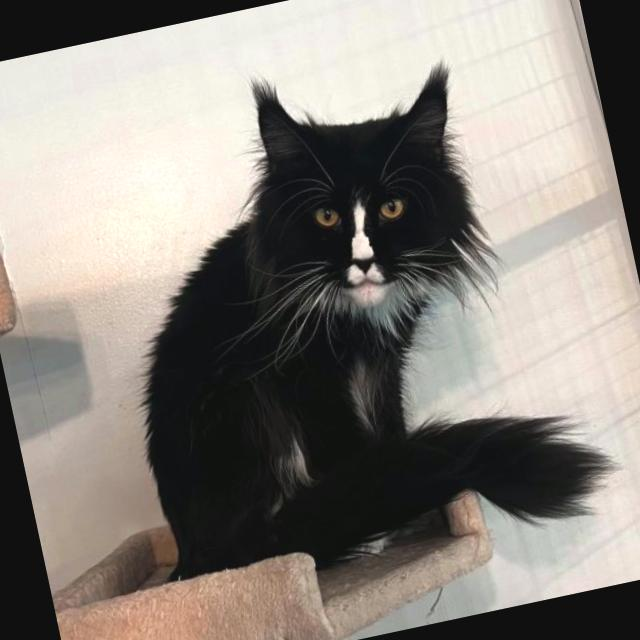maine_coon_cat: (189, 36, 521, 383)
